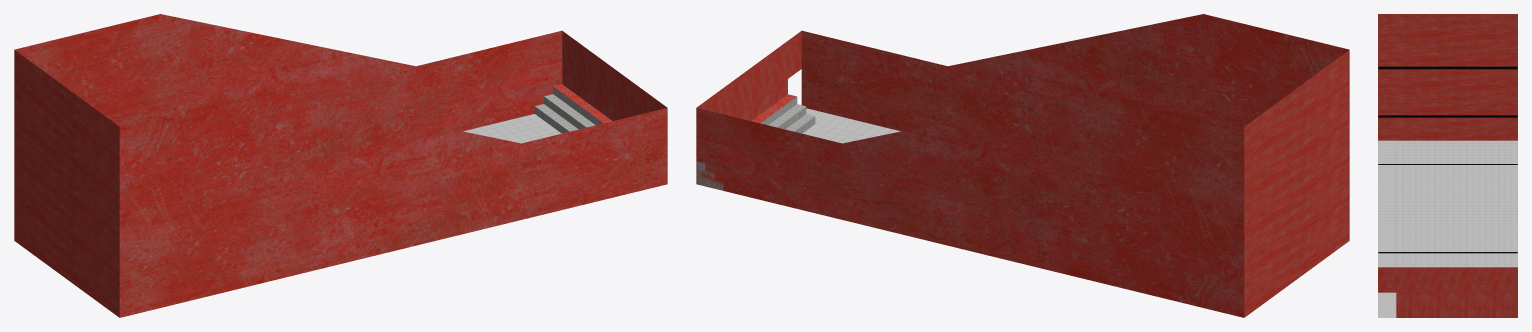
File: Fronton.glb
The picture shows the model from 3 angles, left to right: view 1: azimuth 30°, elevation 25°; view 2: azimuth 150°, elevation 25°; view 3: azimuth 270°, elevation 25°; orthographic projection. The views are drawn at different scales.
Parts seen in each view (by area): view 1: Plane.001, Plane.002, Plane; view 2: Plane.001, Plane.002, Plane; view 3: Plane.002, Plane, Plane.003.
Boxes of the visible parts, bbox=[...] form: Plane.001: bbox=[15, 14, 667, 317]; Plane.002: bbox=[14, 31, 667, 317]; Plane: bbox=[463, 86, 603, 143]; Plane.001: bbox=[696, 14, 1348, 317]; Plane.002: bbox=[696, 31, 1349, 317]; Plane: bbox=[696, 96, 900, 190]; Plane.002: bbox=[1378, 14, 1517, 317]; Plane: bbox=[1378, 140, 1517, 317]; Plane.003: bbox=[1378, 66, 1517, 253].
Size of the model in its own units: 60 by 20 by 20.
4 materials, 3 textured.
